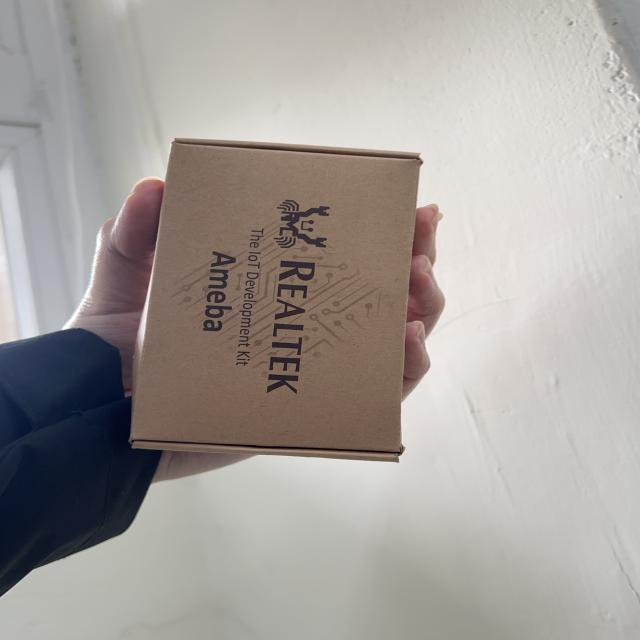box: (114, 126, 452, 482)
